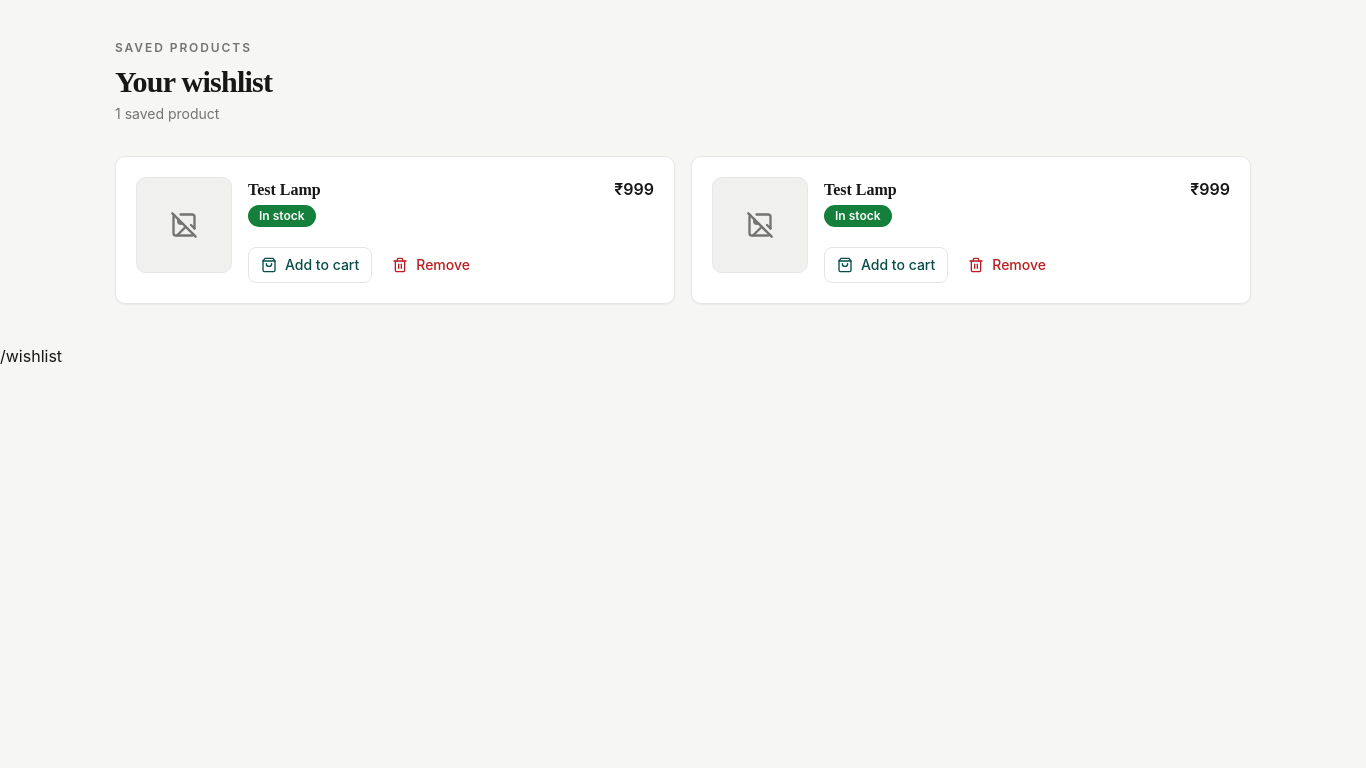
Scenario: WishlistPage › adds a saved product to the cart and then removes it after confirmation
The image size is (1366, 768).
Click the 1st button "Add to cart": [310, 265] box [248,247,372,283]
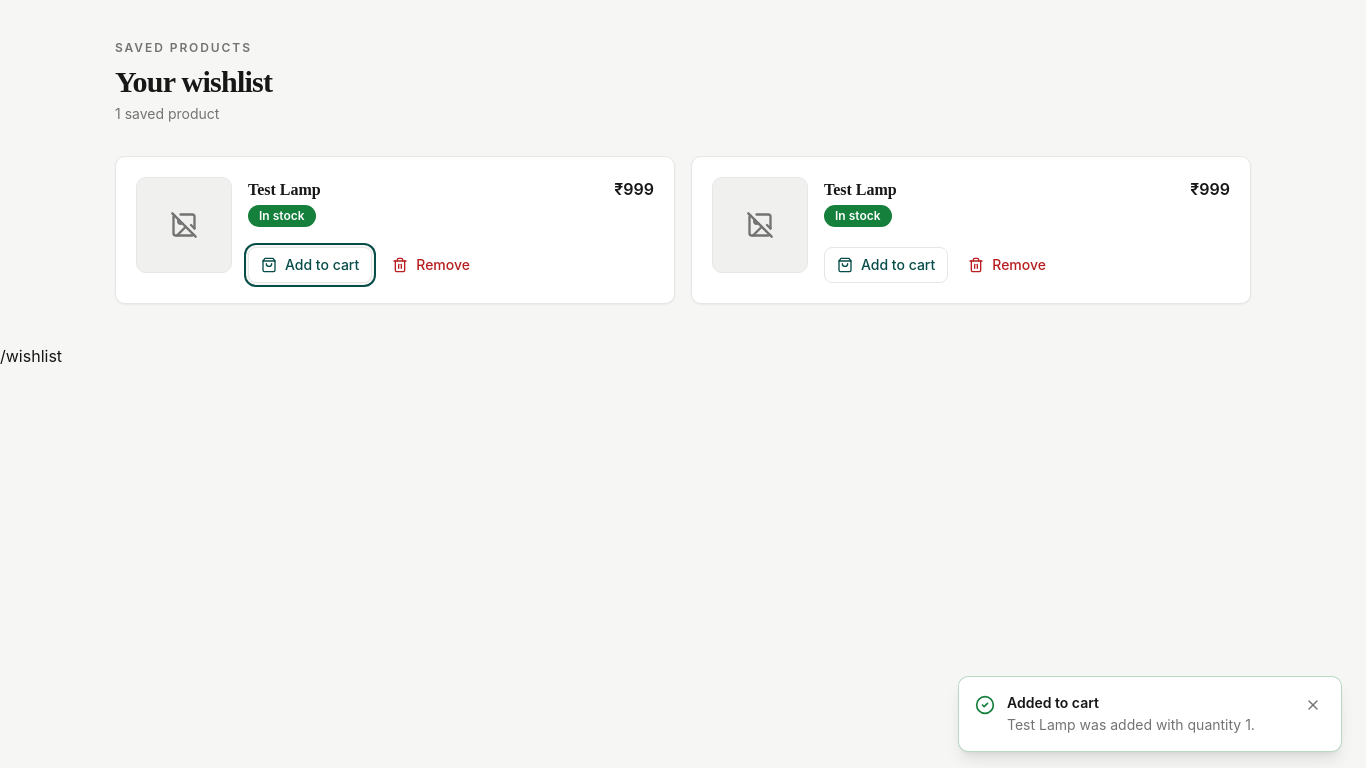
Expected: the text "Added to cart" is shown, [1007,694,1099,711]
Click the 1st button "Remove": [431, 265] box [380,247,482,283]
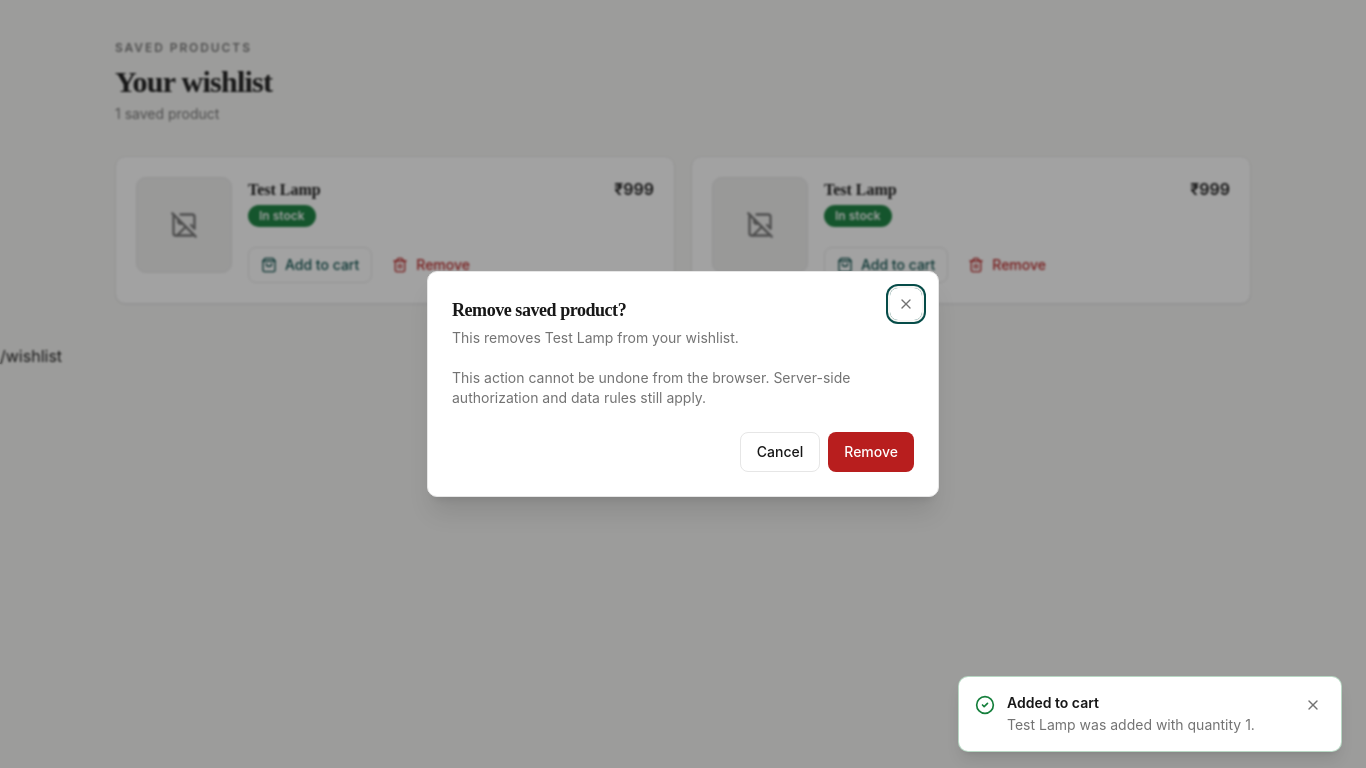
Expected: the text "This removes Test Lamp from your wishlist." is shown, [452,329,739,346]
Note: The dialog is the only place with a destructive confirm button.
Click the button "Remove": [871, 452] box [828,432,914,472]
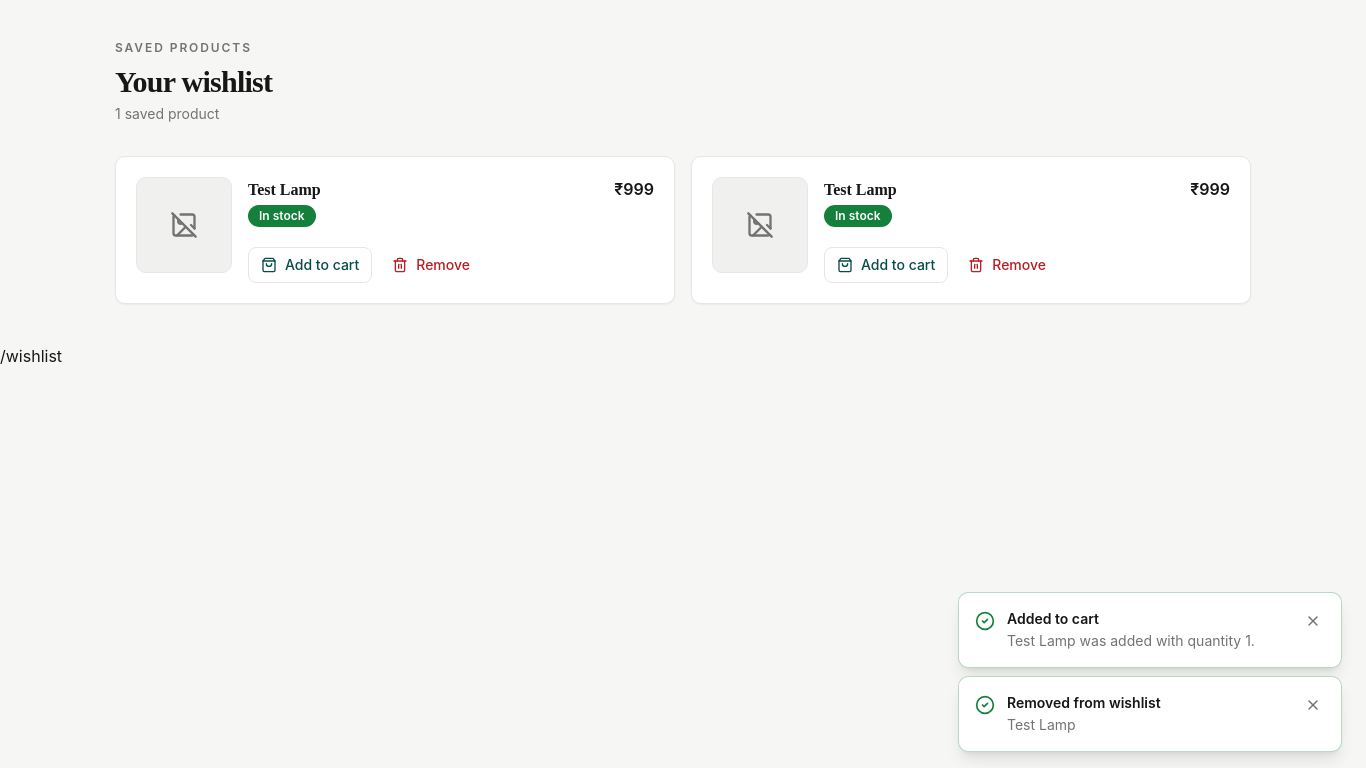
Expected: the text "Removed from wishlist" is shown, [1007,694,1161,711]
